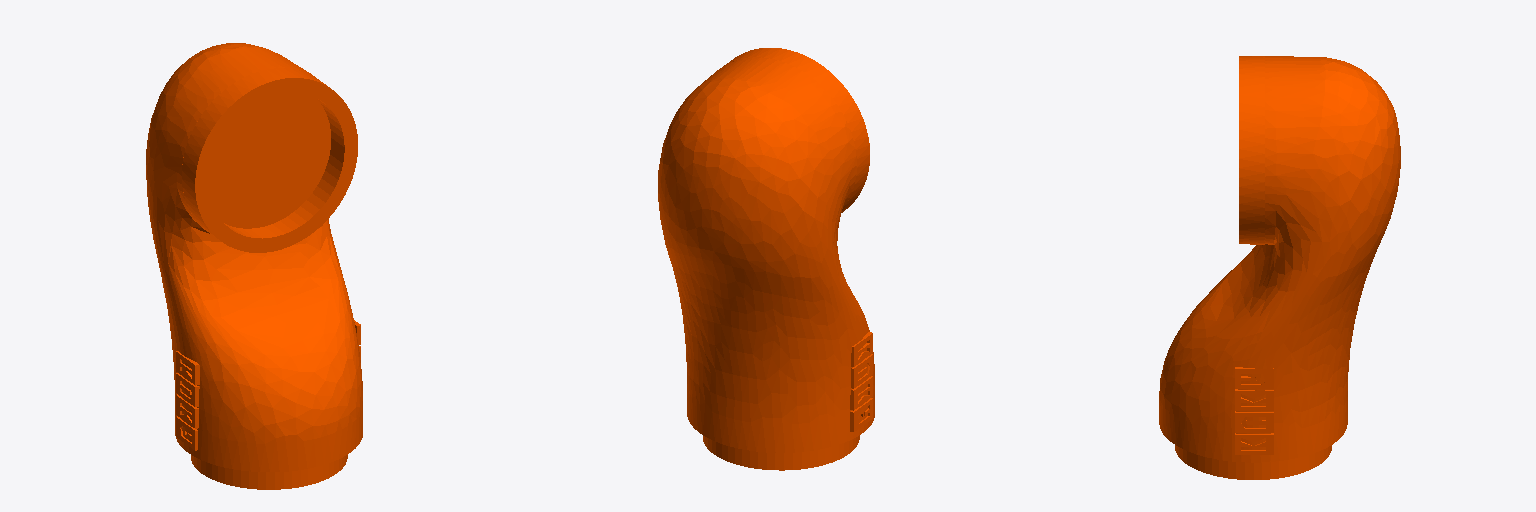
The model's file is kuka-link3.obj.
3 views of the same model, side by side, from view 1: azimuth 30°, elevation 25°; view 2: azimuth 150°, elevation 25°; view 3: azimuth 270°, elevation 25° (orthographic).
Parts seen in each view (by area): view 1: object; view 2: object; view 3: object.
Part boxes in pixels (x1,y1,x2,y2): object: (146, 43, 362, 489); object: (658, 48, 874, 470); object: (1159, 56, 1400, 479).
Bounding box in the file's own units: 122 × 268 × 154.